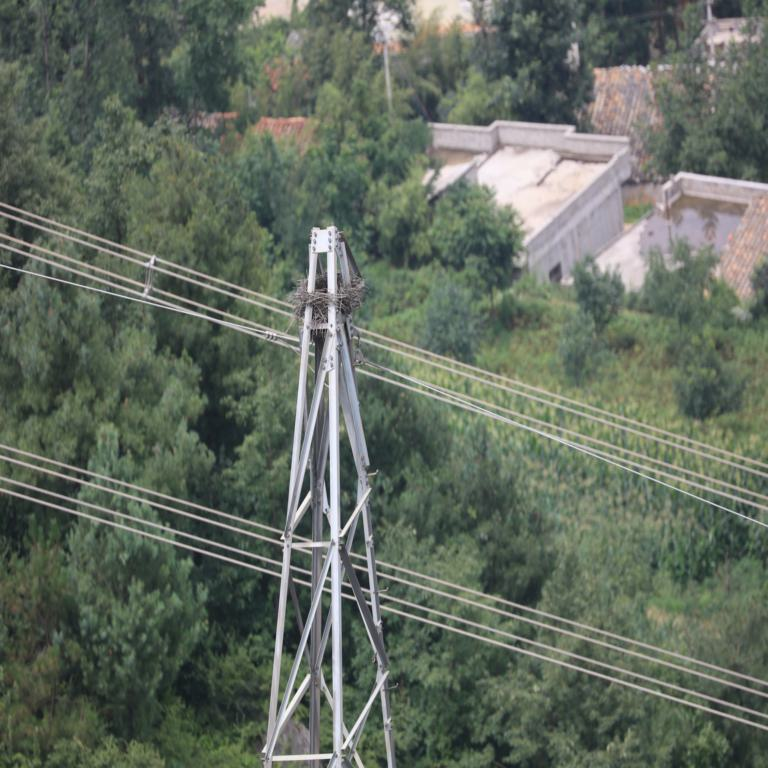nest: (295, 275, 364, 323)
